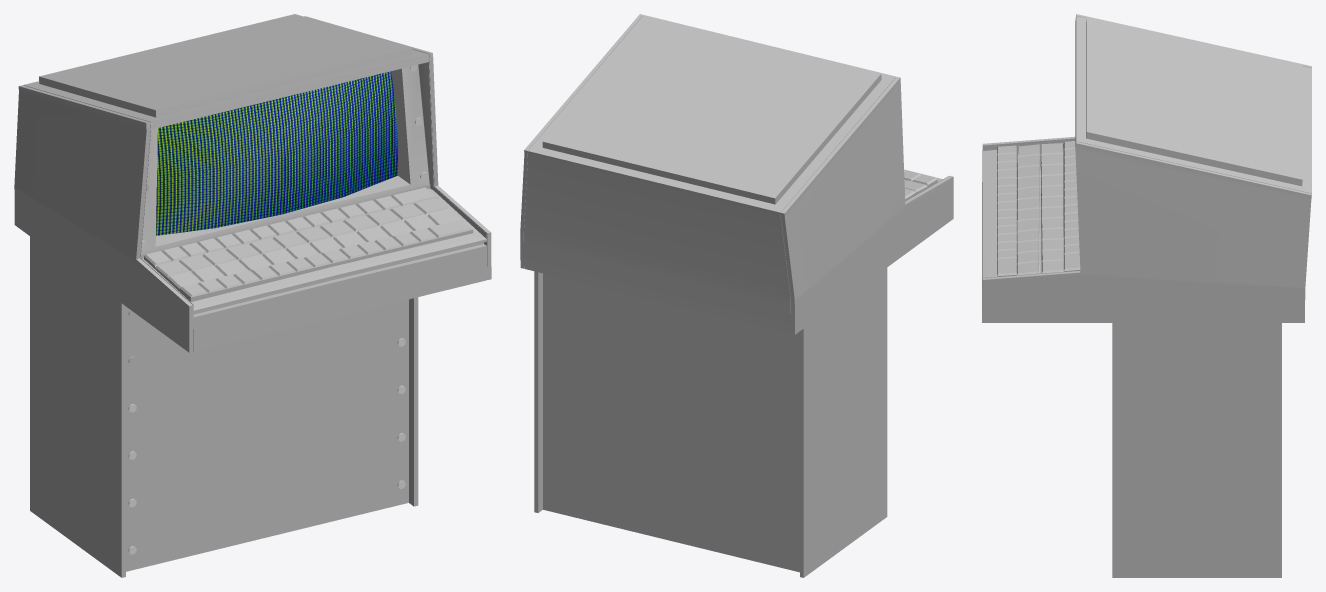
Rendered from Pc_Textura.fbx.
The picture shows the model from 3 angles, left to right: view 1: azimuth 30°, elevation 25°; view 2: azimuth 150°, elevation 25°; view 3: azimuth 270°, elevation 25°; orthographic projection. The views are drawn at different scales.
Parts seen in each view (by area): view 1: Base_Computador, Computador, Plane001, Teclado; view 2: Computador, Base_Computador, Teclado; view 3: Computador, Base_Computador, Teclado.
Boxes of the visible parts, x1=… form: Base_Computador: x1=30, y1=236, x2=418, y2=577; Computador: x1=14, y1=14, x2=491, y2=352; Plane001: x1=156, y1=71, x2=397, y2=235; Teclado: x1=144, y1=187, x2=473, y2=301; Computador: x1=520, y1=14, x2=953, y2=334; Base_Computador: x1=534, y1=268, x2=887, y2=577; Teclado: x1=904, y1=170, x2=937, y2=200; Computador: x1=982, y1=14, x2=1311, y2=322; Base_Computador: x1=1112, y1=323, x2=1281, y2=577; Teclado: x1=997, y1=141, x2=1080, y2=276.
Bounding box in the file's own units: 137 × 205 × 141.
